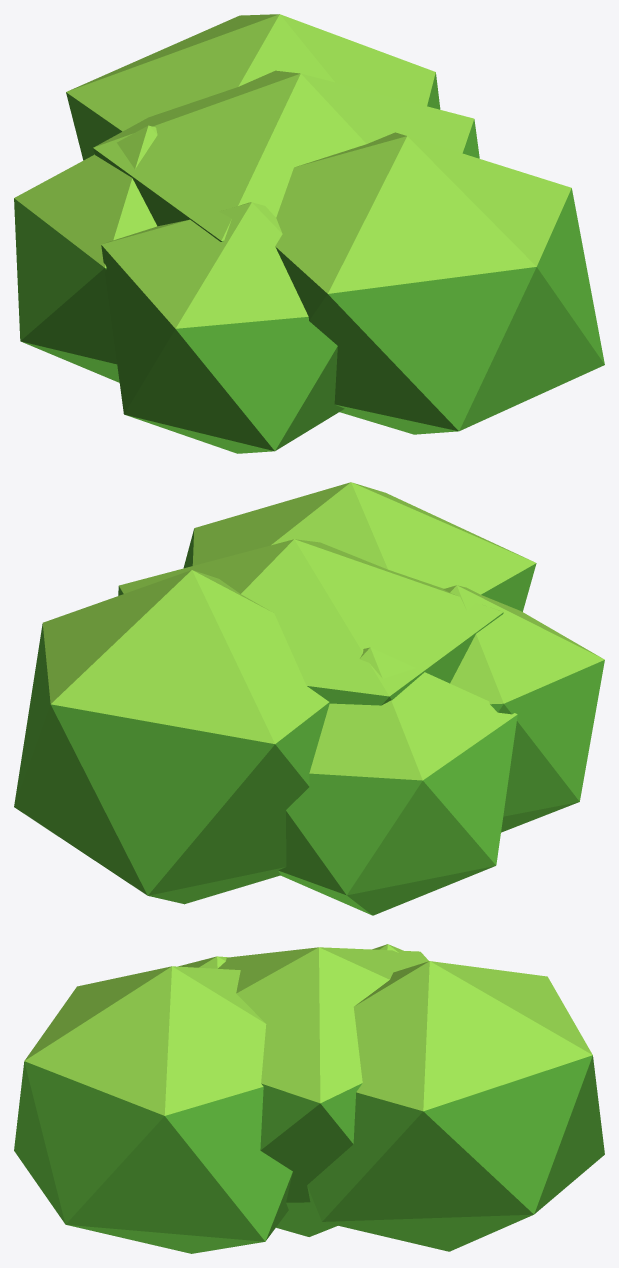
Rendered from Bush.fbx.
The picture shows the model from 3 angles, top to bottom: view 1: azimuth 30°, elevation 25°; view 2: azimuth 150°, elevation 25°; view 3: azimuth 270°, elevation 25°; orthographic projection. The views are drawn at different scales.
Parts seen in each view (by area): view 1: Bush; view 2: Bush; view 3: Bush.
Part boxes in pixels (box(x1,y1,x2,y2)): Bush: box(14, 14, 604, 453); Bush: box(14, 482, 604, 915); Bush: box(14, 944, 604, 1253).
Size of the model in its own units: 3.01 by 2.16 by 3.95.
Materials: 1 (1 with a texture image).
